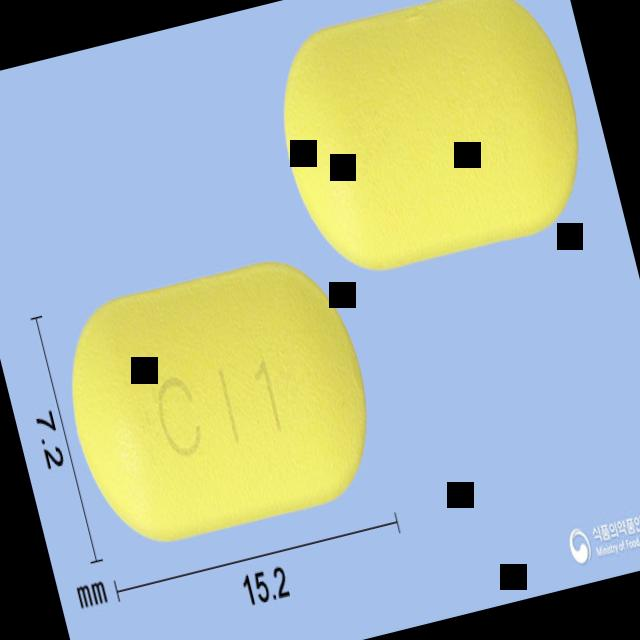Cephamethyl Tab: (47, 243, 390, 556), (258, 0, 602, 288)
